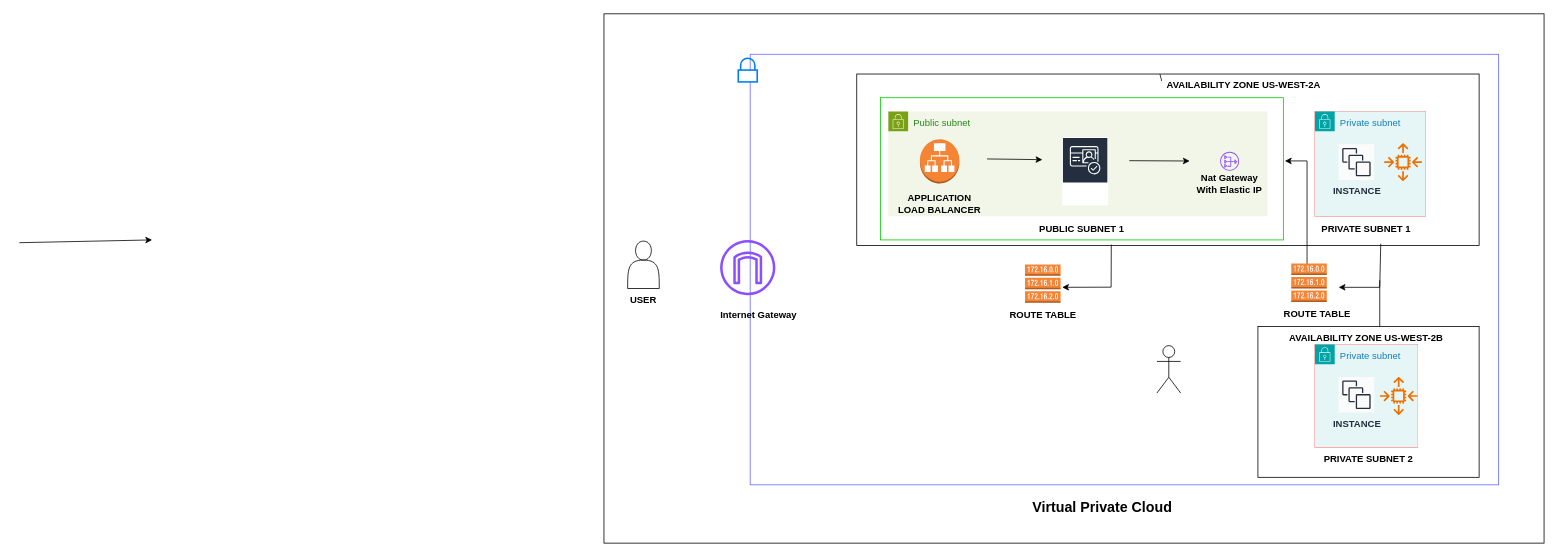
Image size: 1558x557. Some labels were removed from this diagram. Each missing label, with the centre of its shape:
"Actor" belongs at pixel 1168 369.
"AMAZON COGNITO" belongs at pixel 1084 170.
